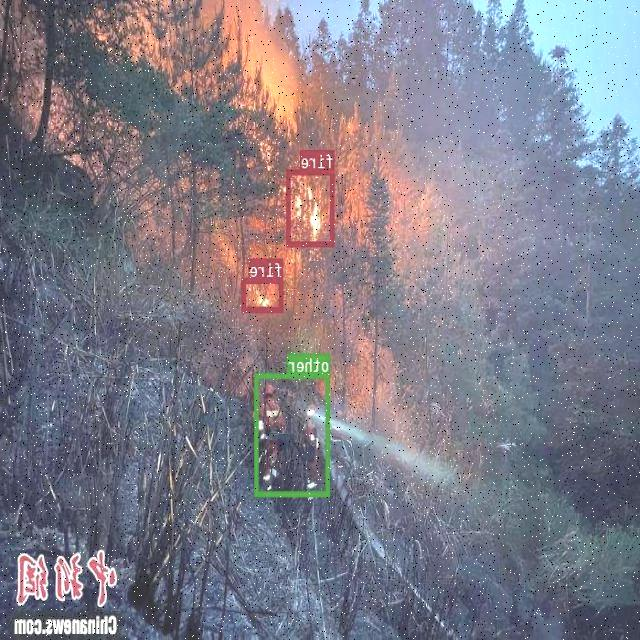fire: (288, 168, 336, 246), (242, 278, 284, 312)
